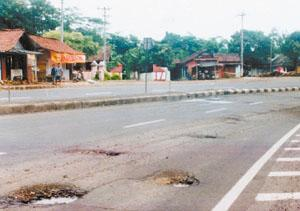Pothole: (133, 161, 211, 196), (0, 178, 82, 211), (46, 143, 126, 166), (169, 125, 224, 145), (219, 108, 250, 131)
